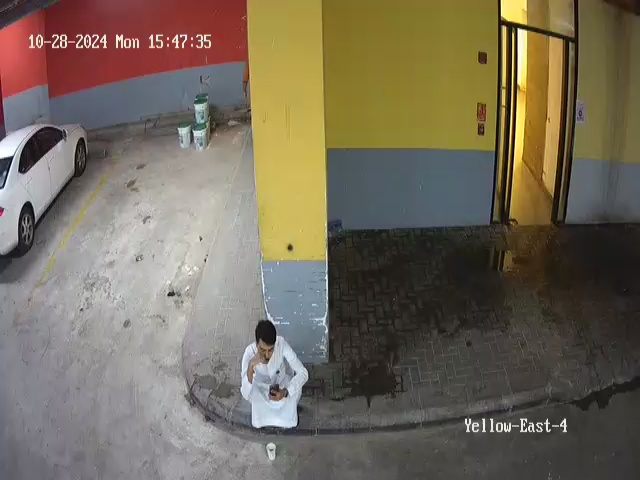male: (240, 320, 309, 430)
